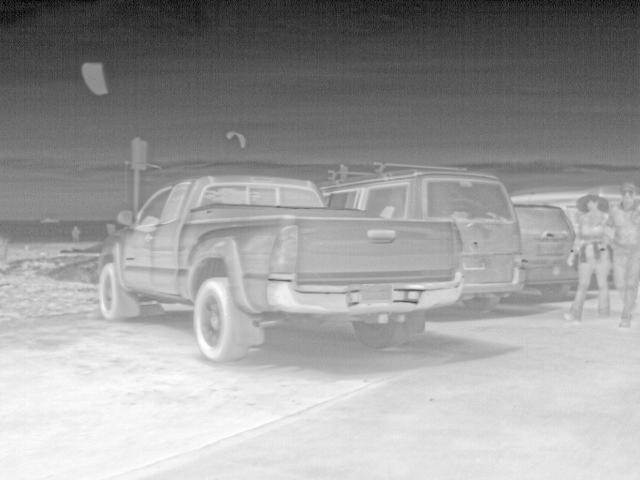car: (96, 174, 464, 364), (318, 159, 519, 317), (515, 202, 579, 302)
person: (567, 192, 612, 324), (606, 180, 640, 330), (70, 223, 82, 241)
